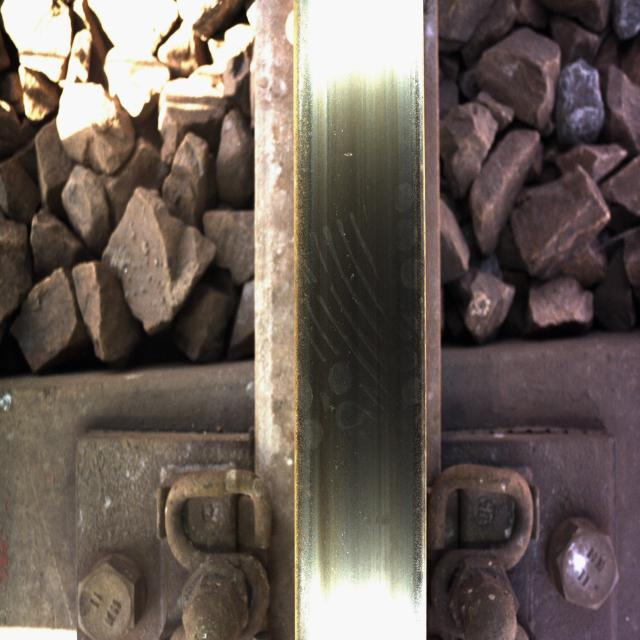break: (320, 15, 411, 573)
